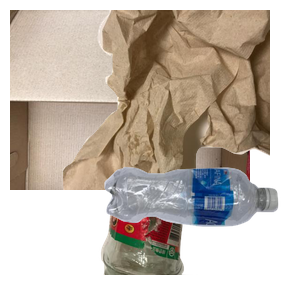cardboard: (10, 10, 250, 190)
glass: (98, 120, 286, 300)
plastic: (102, 165, 300, 300)
trash: (60, 10, 300, 190)
